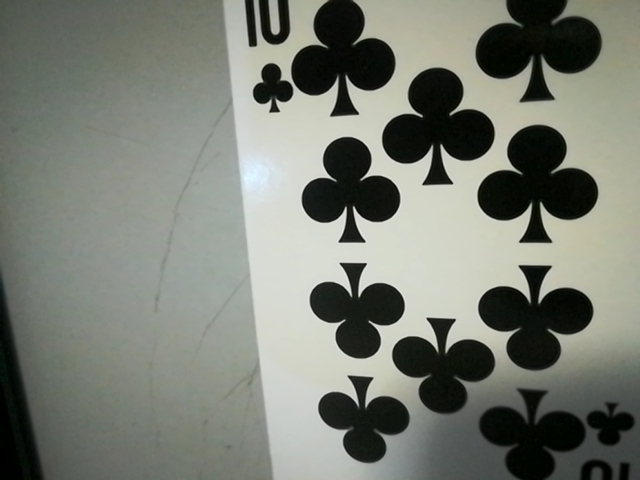mh 10: (230, 0, 300, 118)
